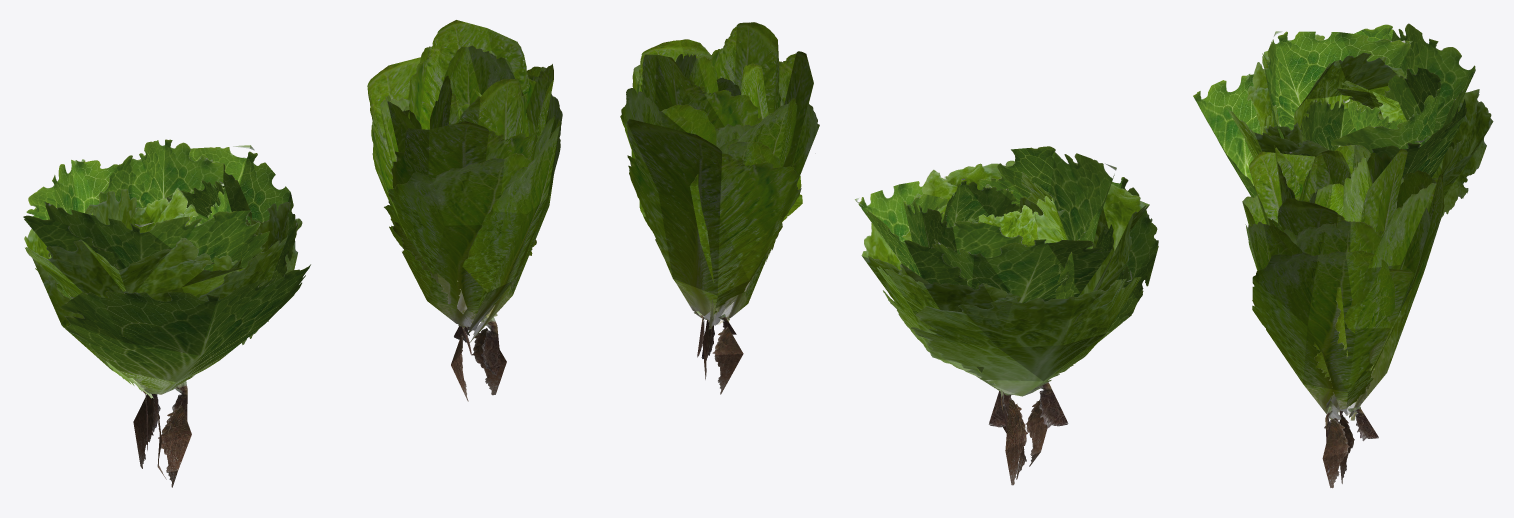
The picture shows the model from 3 angles, left to right: view 1: azimuth 30°, elevation 25°; view 2: azimuth 150°, elevation 25°; view 3: azimuth 270°, elevation 25°; orthographic projection. The views are drawn at different scales.
Visible parts, largest first — view 1: 1-_Letucce; view 2: 1-_Letucce; view 3: 1-_Letucce.
Boxes of the visible parts, x1,y1,x2,y2 form: 1-_Letucce: (23, 20, 562, 487); 1-_Letucce: (620, 22, 1158, 485); 1-_Letucce: (1193, 23, 1493, 488).
Size of the model in its own units: 0.613 by 0.4406 by 0.3206.
